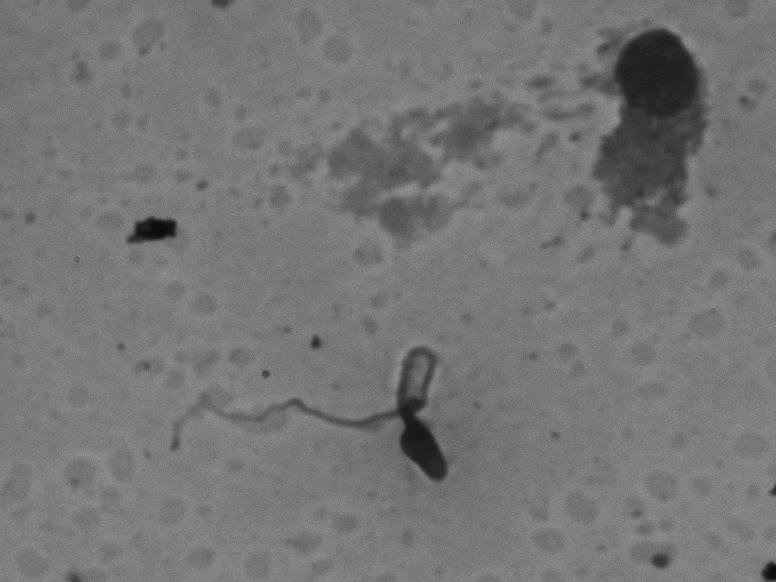Abnormal: (134, 301, 479, 499)
